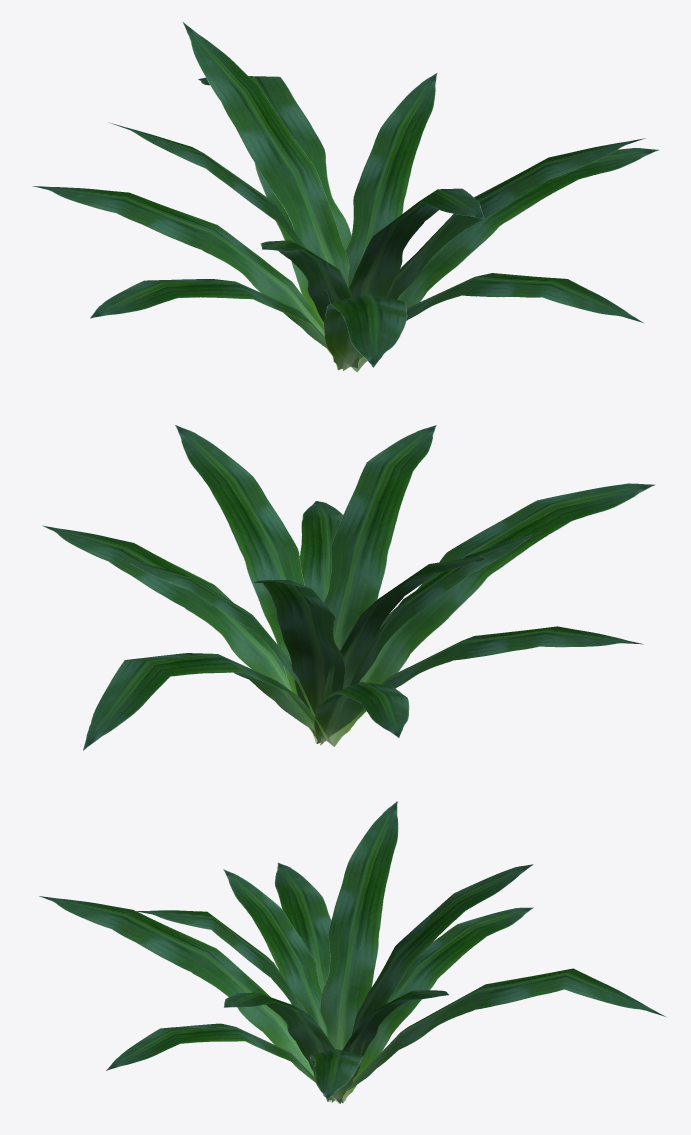
File: Plant_03.FBX
3 views of the same model, one above another, from view 1: azimuth 30°, elevation 25°; view 2: azimuth 150°, elevation 25°; view 3: azimuth 270°, elevation 25° (orthographic). The views are drawn at different scales.
Parts seen in each view (by area): view 1: Plant_03; view 2: Plant_03; view 3: Plant_03.
Boxes of the visible parts, x1,y1,x2,y2 form: Plant_03: [32, 22, 658, 372]; Plant_03: [42, 425, 655, 750]; Plant_03: [39, 801, 666, 1103].
Size of the model in its own units: 4.3 by 1.85 by 4.91.
1 material, 1 textured.
